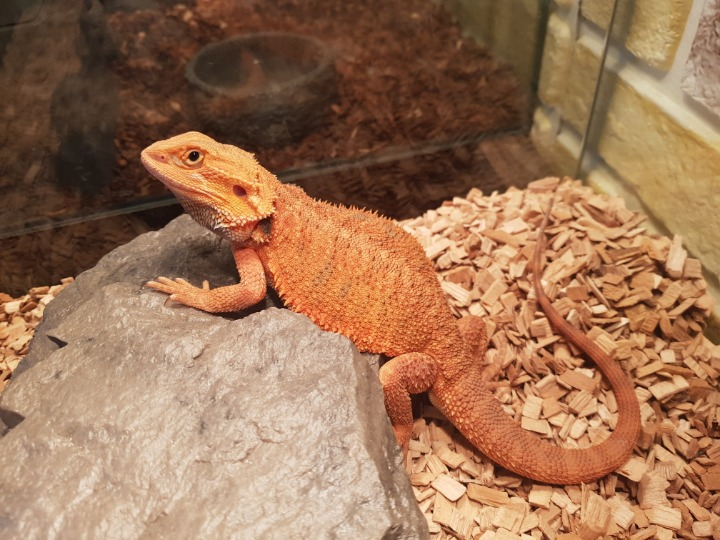bearded: (136, 126, 646, 491)
